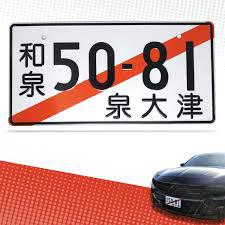0: (86, 41, 118, 89)
5: (51, 40, 82, 90)
8: (141, 41, 171, 91)
I: (183, 39, 197, 92)
